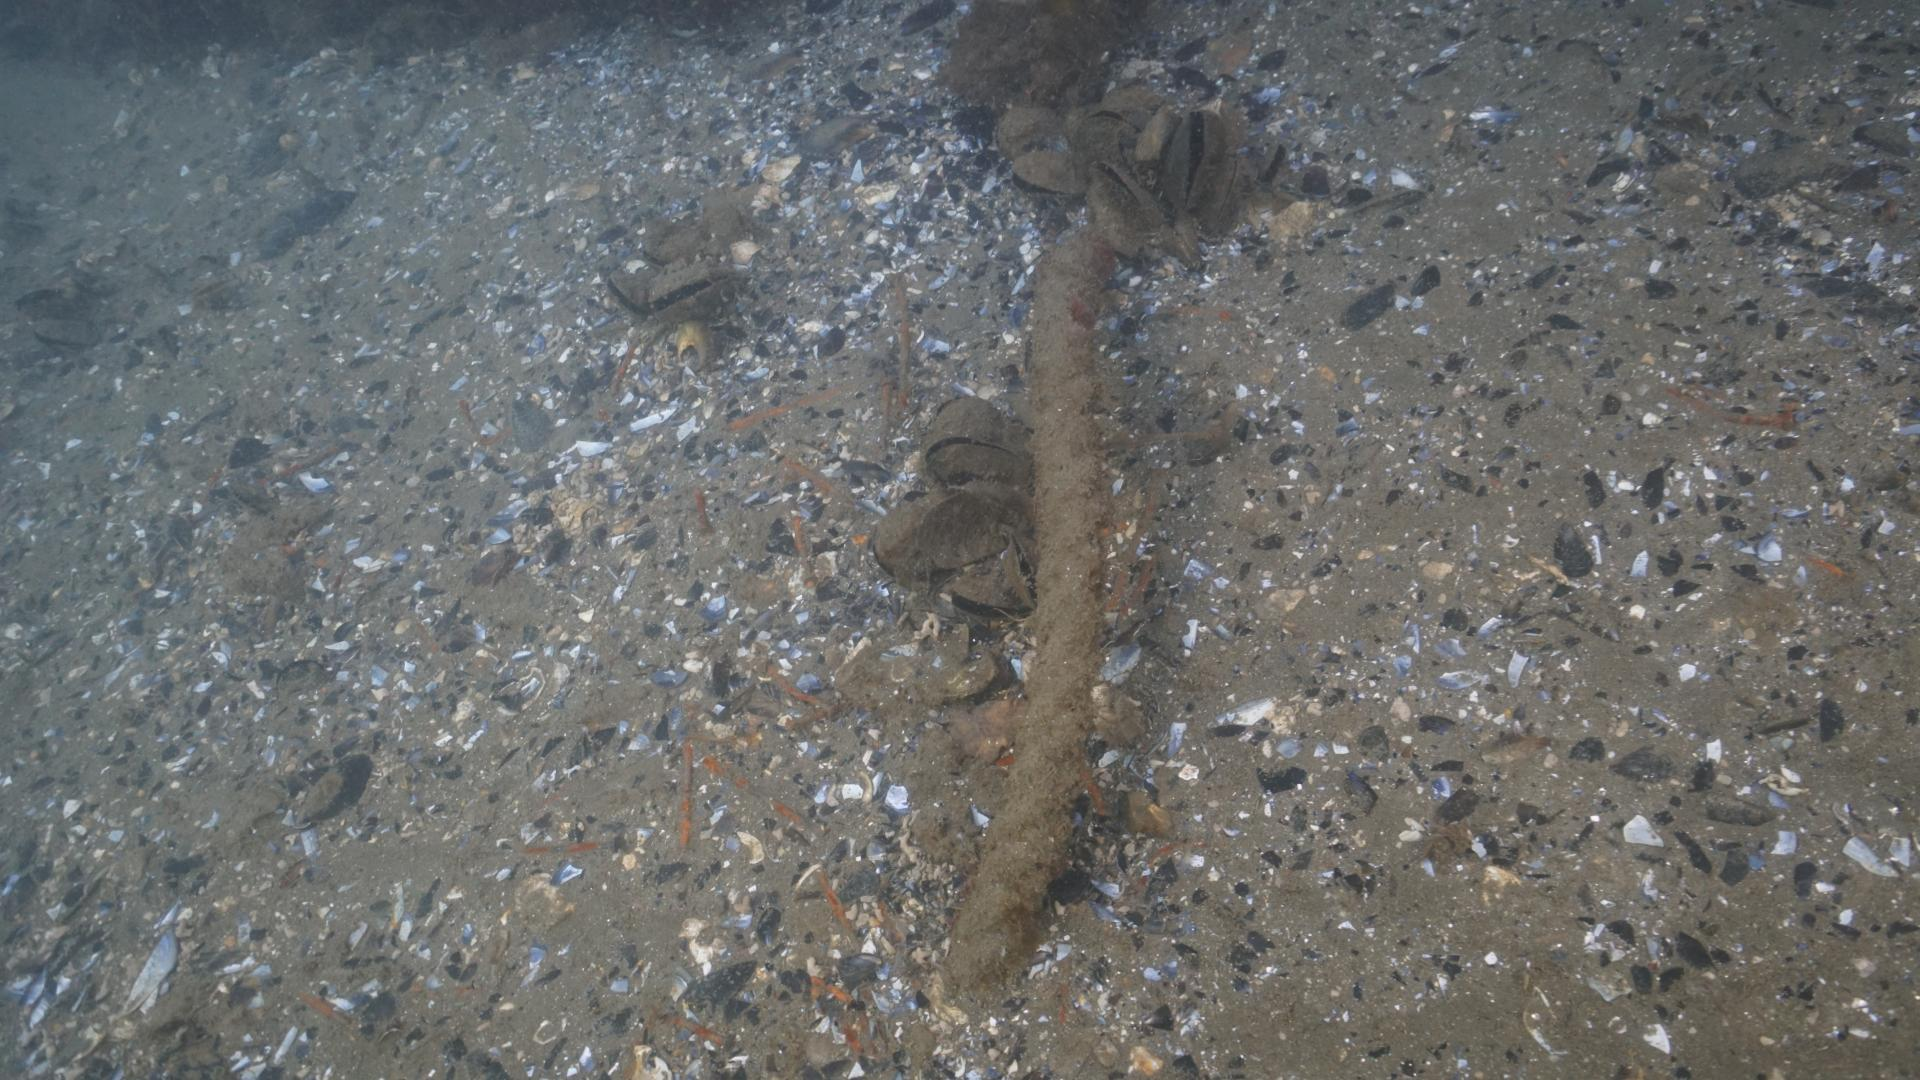rope: (935, 237, 1116, 1002)
